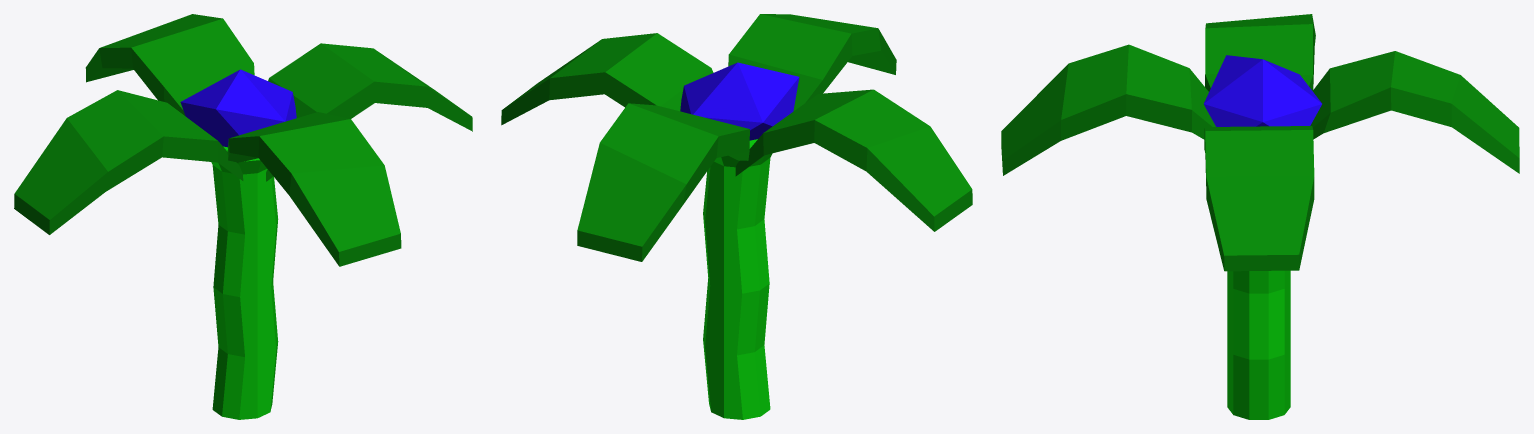
Rendered from flower_1b.fbx.
3 views of the same model, side by side, from view 1: azimuth 30°, elevation 25°; view 2: azimuth 150°, elevation 25°; view 3: azimuth 270°, elevation 25° (orthographic). The views are drawn at different scales.
Parts seen in each view (by area): view 1: flower_1b; view 2: flower_1b; view 3: flower_1b.
Part boxes in pixels (<box>): flower_1b: <box>14,14,472,419</box>; flower_1b: <box>501,14,972,419</box>; flower_1b: <box>1001,14,1519,419</box>.
Bounding box in the file's own units: 75.01 × 56.94 × 76.88.
